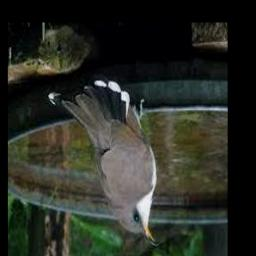Cuckoo: (49, 82, 160, 246)
